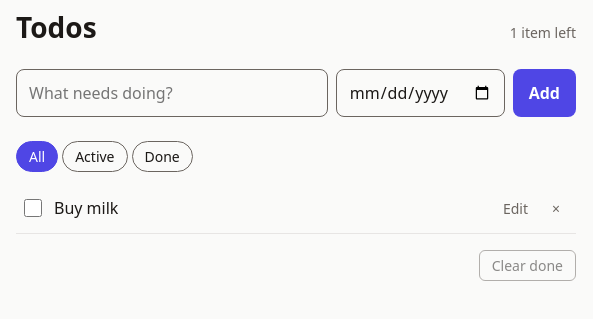
Test: App › editing › cancels on Escape
Expected: the text "Buy milk" is shown, 54,196 -> 118,220
Click the button with aria-label "Edit Buy milk" at (515, 208), box 495,196 -> 536,221
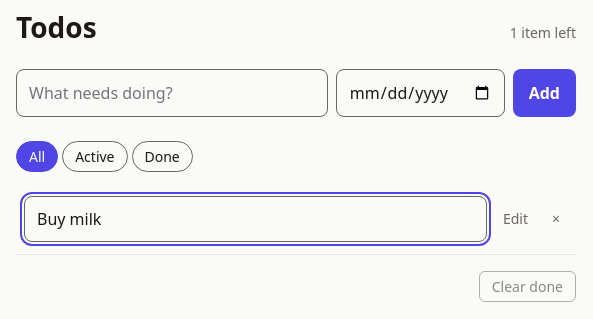
Type " x" into the field named "Edit title of Buy milk" at (255, 219), box 24,196 -> 487,242
Then press Escape
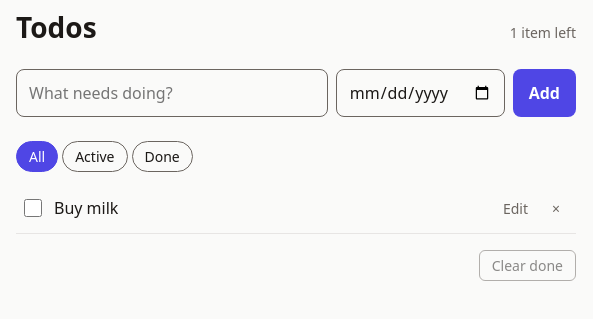
Result: the text "Buy milk" is shown at 54,196 -> 118,220
